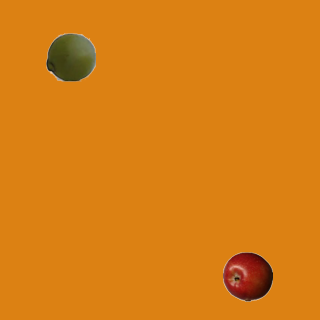Apple Braeburn: (222, 251, 272, 301)
Grape White 4: (45, 31, 95, 81)
